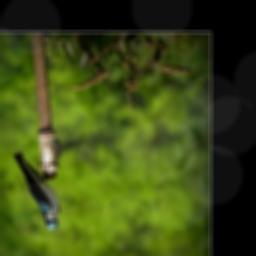Swallow: (11, 149, 60, 231)
